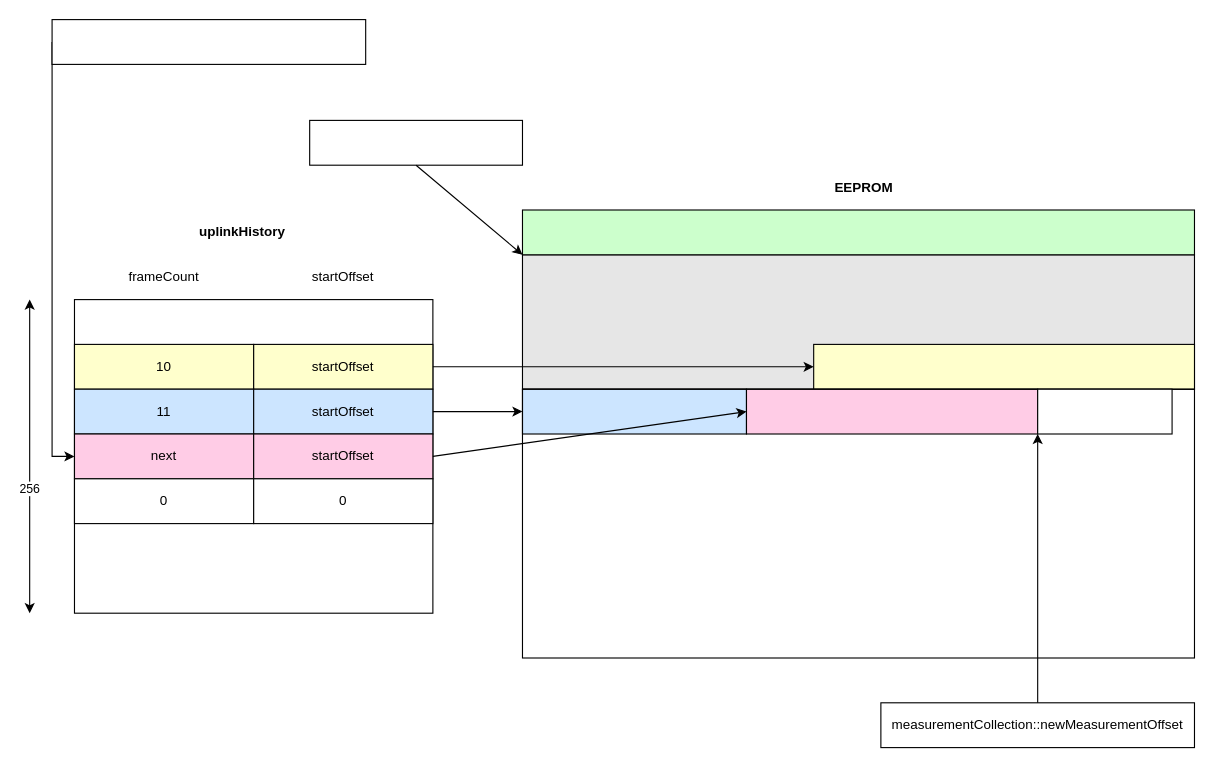
This 1214x767 diagram has some shape labels left out. Each missing label, with the centre of its shape:
"0xFFFFFFFF" goes at pixel 1104 411.
"measurementCollection::uplinkHistoryIndex" goes at pixel 208 41.
"nvs::measurementsStartAddress" goes at pixel 415 142.
"settings" goes at pixel 857 232.
